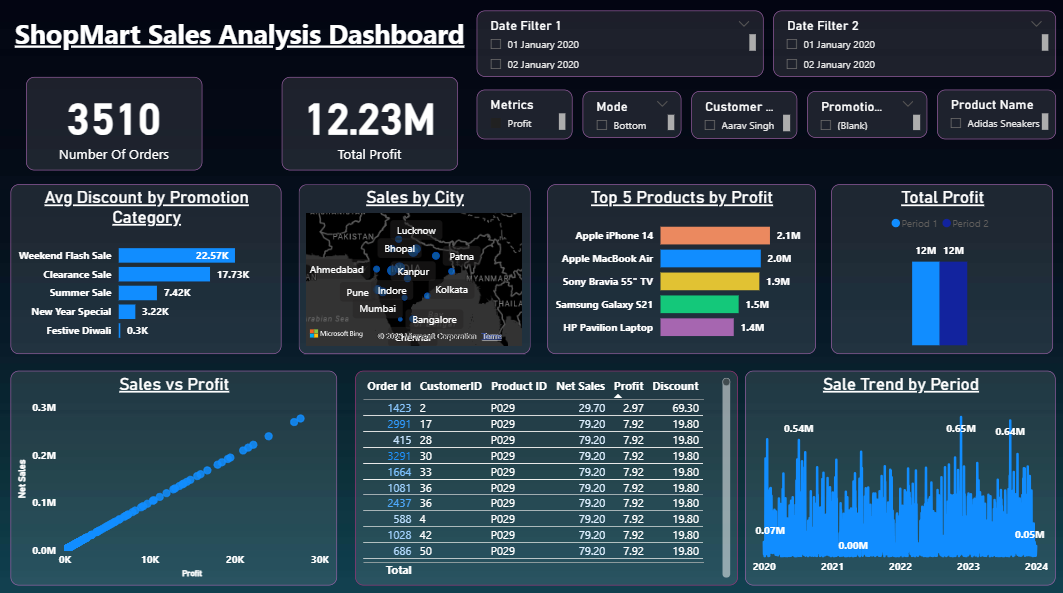

The page's visual inventory and layout, read from the dashboard file:
{"tool":"powerbi","page":{"name":"Page 1","canvas":[1280,720],"ordinal":0},"visuals":[{"type":"slicer","fields":{"Values":["TopBottomSwitch.Mode"]},"box":[703.3,115,118.3,55.8],"z":0},{"type":"scatterChart","title":"Sales vs Profit","fields":{"X":["Fact Table.Profit"],"Y":["Fact Table.Net Sales"]},"box":[18.6,449.7,390.5,257],"z":1000},{"type":"barChart","title":"Avg Discount by Promotion Category","fields":{"Y":["Fact Table.Discount"],"Category":["Dim Promotion.Promotion Name"]},"box":[18.6,226.5,324.6,202.9],"z":2000},{"type":"map","title":"Sales by City","fields":{"Category":["Dim Customers.City"],"Size":["Fact Table.Net Sales"]},"box":[363.5,226.5,277.2,202.9],"z":3000},{"type":"card","fields":{"Values":["Fact Table.Order Id"]},"box":[37.2,98.1,211.3,111.6],"z":4000},{"type":"barChart","fields":{"Category":["Dim Product.Product Name"],"Y":["Date Table 1.Selected Metric Period 1"]},"box":[661,226.5,321.2,202.9],"z":5000},{"type":"slicer","fields":{"Values":["Metrics.Metric"]},"box":[576.5,113.3,115,59.2],"z":6000},{"type":"clusteredColumnChart","fields":{"Y":["Date Table 1.Selected Metric Period 1","Date Table 1.Selected Metric Value"]},"box":[1000.8,226.5,265.4,202.9],"z":7000},{"type":"slicer","fields":{"Values":["Date Table 2.Date"]},"box":[931.5,18.6,338.1,79.5],"z":8000},{"type":"slicer","fields":{"Values":["Date Table 1.Date"]},"box":[576.5,18.6,343.2,79.5],"z":9000},{"type":"lineChart","title":"Sale Trend by Period","fields":{"Category":["Fact Table.Date (dd/mm/yyyy)"],"Y":["Fact Table.Net Sales"]},"box":[897.7,449.7,371.9,257],"z":10000},{"type":"tableEx","fields":{"Values":["Fact Table.Order Id","Fact Table.CustomerID","Fact Table.Product ID","Fact Table.Net Sales","Fact Table.Profit","Fact Table.Discount"]},"box":[431.1,449.7,458.1,257],"z":11000},{"type":"slicer","fields":{"Values":["Dim Promotion.Promotion Name"]},"box":[972.1,115,143.7,55.8],"z":12000},{"type":"slicer","fields":{"Values":["Dim Product.Product Name"]},"box":[1127.6,113.3,142,59.2],"z":13000},{"type":"slicer","fields":{"Values":["Dim Customers.Customer Name"]},"box":[833.4,115,126.8,57.5],"z":14000},{"type":"textbox","box":[19,19,554.8,59.9],"z":15000},{"type":"card","fields":{"Values":["Fact Table.Profit"]},"box":[343.2,98.1,211.3,111.6],"z":16000}]}

Visuals, with their boxes in screenshot pixels (x1, y1, x2, y2), scaled from the page's 1280x720 canvas onto the 1063x593 screenshot:
slicer - TopBottomSwitch.Mode: bbox=(584, 95, 682, 141)
"Sales vs Profit" scatterChart: bbox=(15, 370, 340, 582)
"Avg Discount by Promotion Category" barChart: bbox=(15, 187, 285, 354)
"Sales by City" map: bbox=(302, 187, 532, 354)
card - Fact Table.Order Id: bbox=(31, 81, 206, 173)
barChart - Dim Product.Product Name x Date Table 1.Selected Metric Period 1: bbox=(549, 187, 816, 354)
slicer - Metrics.Metric: bbox=(479, 93, 574, 142)
clusteredColumnChart - Date Table 1.Selected Metric Period 1 x Date Table 1.Selected Metric Value: bbox=(831, 187, 1052, 354)
slicer - Date Table 2.Date: bbox=(774, 15, 1054, 81)
slicer - Date Table 1.Date: bbox=(479, 15, 764, 81)
"Sale Trend by Period" lineChart: bbox=(746, 370, 1054, 582)
tableEx - Fact Table.Order Id x Fact Table.CustomerID: bbox=(358, 370, 738, 582)
slicer - Dim Promotion.Promotion Name: bbox=(807, 95, 927, 141)
slicer - Dim Product.Product Name: bbox=(936, 93, 1054, 142)
slicer - Dim Customers.Customer Name: bbox=(692, 95, 797, 142)
textbox: bbox=(16, 16, 477, 65)
card - Fact Table.Profit: bbox=(285, 81, 460, 173)
